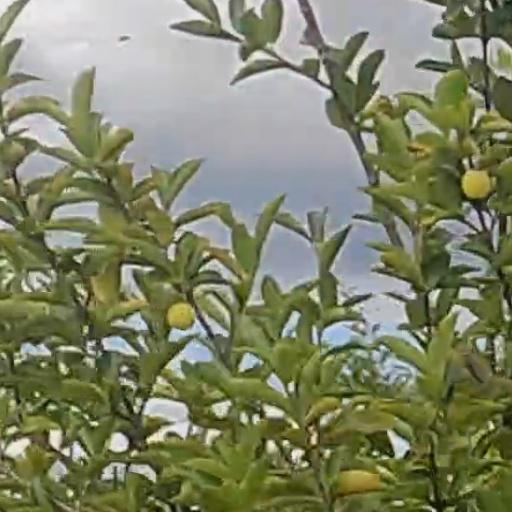acerola: (167, 302, 197, 330), (463, 172, 492, 198)
